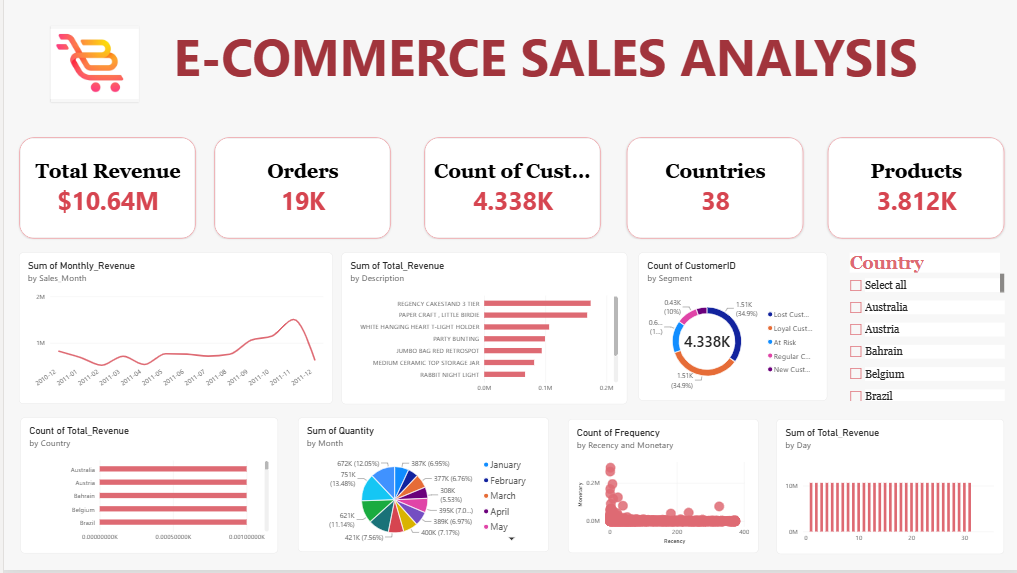

What the dashboard file says about the page in this screenshot:
{"tool":"powerbi","page":{"name":"Page 1","canvas":[1920,1080],"ordinal":0},"visuals":[{"type":"cardVisual","fields":{"Data":["Sum(ecommerce_analysis online_retail.Revenue)"]},"box":[28.3,260.8,334.5,192.8],"z":0},{"type":"cardVisual","fields":{"Data":["Count(ecommerce_analysis online_retail.Country)"]},"box":[1176.4,260.8,334.5,192.8],"z":1000},{"type":"cardVisual","fields":{"Data":["Sum(ecommerce_analysis customer_analysis.Total_Orders)"]},"box":[396.9,260.8,334.5,192.8],"z":2000},{"type":"cardVisual","fields":{"Data":["Count(ecommerce_analysis customer_analysis.CustomerID)"]},"box":[793.7,260.8,334.5,192.8],"z":3000},{"type":"cardVisual","fields":{"Data":["Count(ecommerce_analysis online_retail.StockCode)"]},"box":[1556.2,260.8,334.5,192.8],"z":4000},{"type":"lineChart","fields":{"Category":["ecommerce_analysis monthly_sales.Sales_Month"],"Y":["Sum(ecommerce_analysis monthly_sales.Monthly_Revenue)"]},"box":[28.3,479.1,592.4,286.3],"z":5000},{"type":"clusteredBarChart","fields":{"Category":["ecommerce_analysis product_sales.Description"],"Y":["Sum(ecommerce_analysis product_sales.Total_Revenue)"]},"box":[636.7,480,540,286.7],"z":6000},{"type":"clusteredBarChart","fields":{"Category":["ecommerce_analysis country_sales.Country"],"Y":["Count(ecommerce_analysis country_sales.Total_Revenue)"]},"box":[30,790,486.7,256.7],"z":7000},{"type":"textbox","box":[26.7,23.3,1863.3,193.3],"z":8000},{"type":"image","box":[86.7,50,166.7,143.3],"z":9000},{"type":"slicer","fields":{"Values":["ecommerce_analysis country_sales.Country"]},"box":[1590,480,300,280],"z":10000},{"type":"pieChart","fields":{"Category":["Ecommerce_Cleaned.InvoiceDate.Variation.Date Hierarchy.Month"],"Y":["Sum(Ecommerce_Cleaned.Quantity)"]},"box":[556.7,790,474,254],"z":11000},{"type":"scatterChart","fields":{"Size":["CountNonNull(Customer_RFM_Analysis.Frequency)"],"X":["Customer_RFM_Analysis.Recency"],"Y":["Customer_RFM_Analysis.Monetary"]},"box":[1066.7,793.3,360,253.3],"z":12000},{"type":"donutChart","fields":{"Category":["Customer_RFM_Analysis.Segment"],"Y":["CountNonNull(Customer_RFM_Analysis.CustomerID)"]},"box":[1200,480,356.7,280],"z":13000},{"type":"columnChart","fields":{"Category":["Ecommerce_Cleaned.InvoiceDate.Variation.Date Hierarchy.Day"],"Y":["Sum(ecommerce_analysis country_sales.Total_Revenue)"]},"box":[1460,795,430,255],"z":14000}]}

Visuals, with their boxes in screenshot pixels (x1, y1, x2, y2), scaled from the page's 1920x1080 canvas onto the 1017x573 screenshot:
cardVisual - Sum(ecommerce_analysis online_retail.Revenue): l=15, t=138, r=192, b=241
cardVisual - Count(ecommerce_analysis online_retail.Country): l=623, t=138, r=800, b=241
cardVisual - Sum(ecommerce_analysis customer_analysis.Total_Orders): l=210, t=138, r=387, b=241
cardVisual - Count(ecommerce_analysis customer_analysis.CustomerID): l=420, t=138, r=598, b=241
cardVisual - Count(ecommerce_analysis online_retail.StockCode): l=824, t=138, r=1001, b=241
lineChart - ecommerce_analysis monthly_sales.Sales_Month x Sum(ecommerce_analysis monthly_sales.Monthly_Revenue): l=15, t=254, r=329, b=406
clusteredBarChart - ecommerce_analysis product_sales.Description x Sum(ecommerce_analysis product_sales.Total_Revenue): l=337, t=255, r=623, b=407
clusteredBarChart - ecommerce_analysis country_sales.Country x Count(ecommerce_analysis country_sales.Total_Revenue): l=16, t=419, r=274, b=555
textbox: l=14, t=12, r=1001, b=115
image: l=46, t=27, r=134, b=103
slicer - ecommerce_analysis country_sales.Country: l=842, t=255, r=1001, b=403
pieChart - Ecommerce_Cleaned.InvoiceDate.Variation.Date Hierarchy.Month x Sum(Ecommerce_Cleaned.Quantity): l=295, t=419, r=546, b=554
scatterChart - CountNonNull(Customer_RFM_Analysis.Frequency) x Customer_RFM_Analysis.Recency: l=565, t=421, r=756, b=555
donutChart - Customer_RFM_Analysis.Segment x CountNonNull(Customer_RFM_Analysis.CustomerID): l=636, t=255, r=825, b=403
columnChart - Ecommerce_Cleaned.InvoiceDate.Variation.Date Hierarchy.Day x Sum(ecommerce_analysis country_sales.Total_Revenue): l=773, t=422, r=1001, b=557
